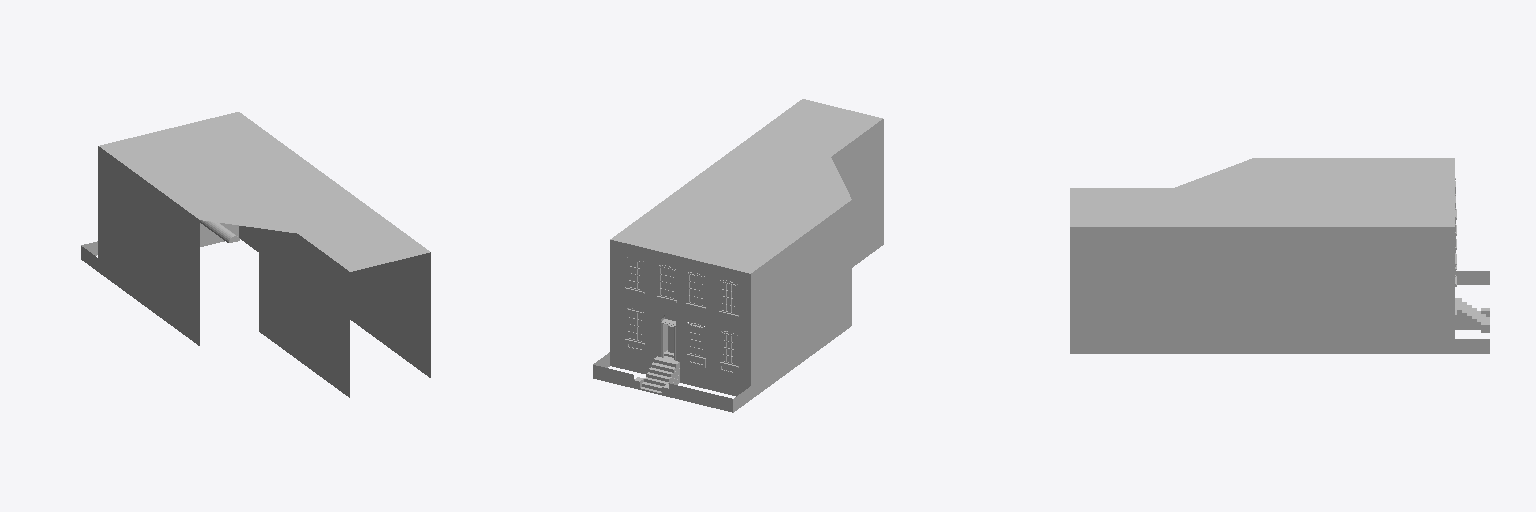
Rendered from marble2.obj.
3 views of the same model, side by side, from view 1: azimuth 30°, elevation 25°; view 2: azimuth 150°, elevation 25°; view 3: azimuth 270°, elevation 25° (orthographic).
Visible parts, largest first — view 1: Mesh10 Model; view 2: Mesh10 Model; view 3: Mesh10 Model.
Boxes of the visible parts, x1,y1,x2,y2 form: Mesh10 Model: [81, 112, 430, 397]; Mesh10 Model: [593, 99, 883, 412]; Mesh10 Model: [1070, 158, 1489, 353].
Size of the model in its own units: 482 by 414 by 1245.